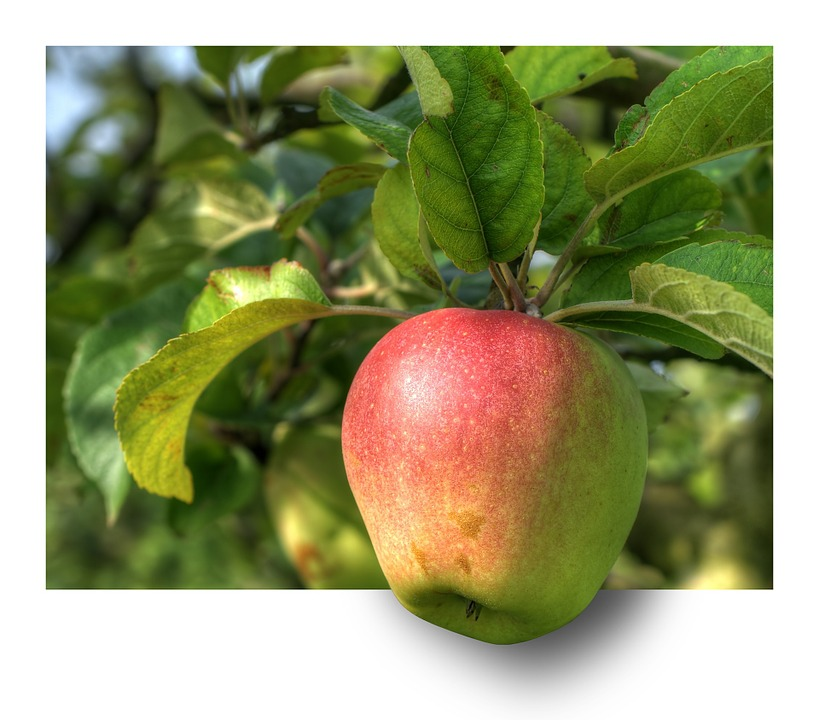apple: (338, 304, 652, 648)
